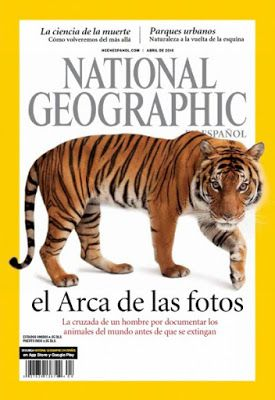Tigrew: (2, 128, 269, 309)
